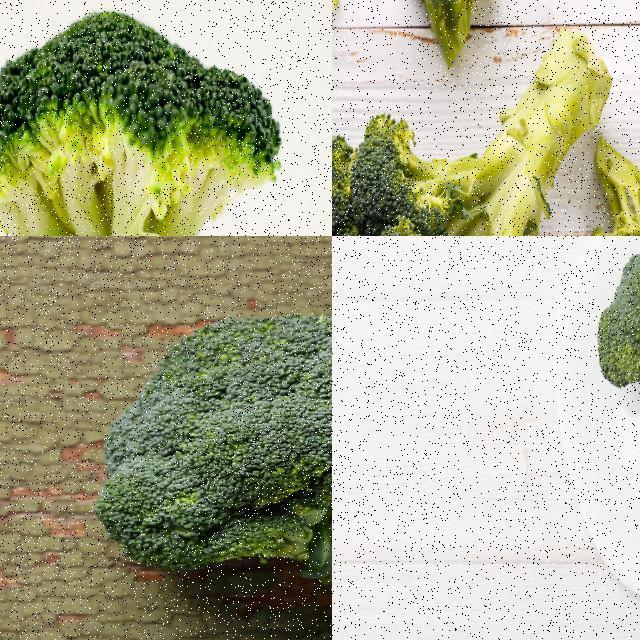broccoli: (92, 306, 331, 618), (0, 0, 285, 235), (332, 31, 619, 235), (595, 236, 639, 567), (398, 0, 508, 84), (591, 124, 639, 235)
